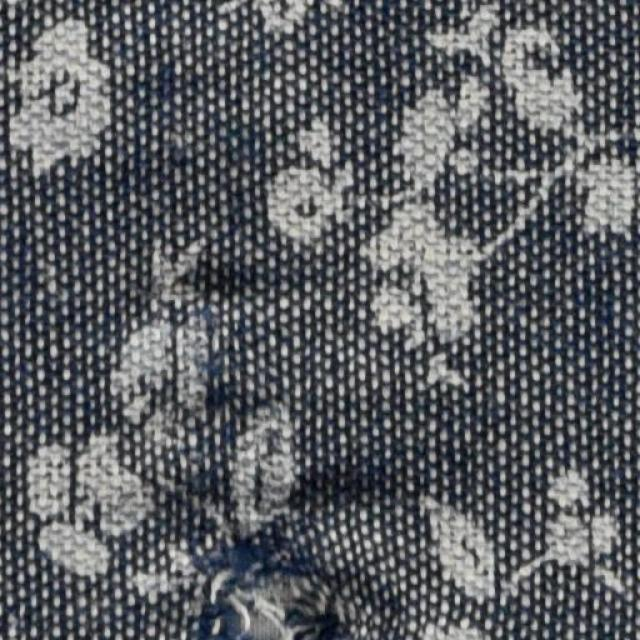Hole: (234, 602, 286, 640)
Snag: (180, 528, 347, 640)
